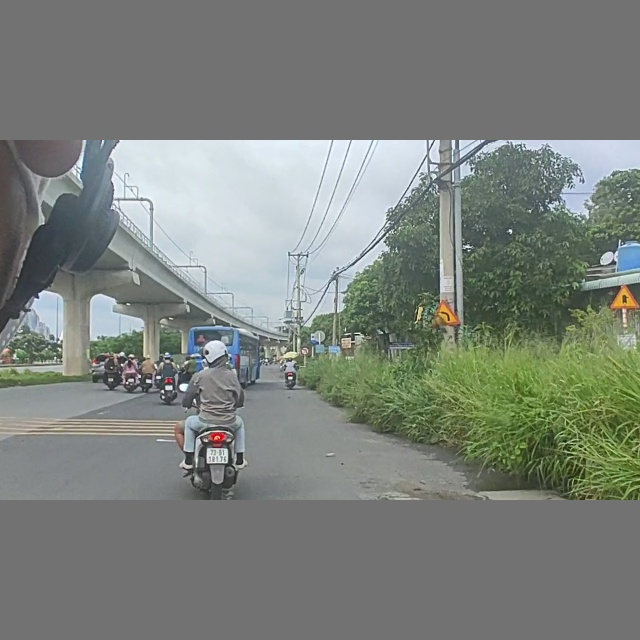I.434a: (309, 331, 320, 344)
P.123a: (299, 346, 310, 355)
W.201a: (435, 299, 461, 326)
W.207: (611, 284, 640, 310)
